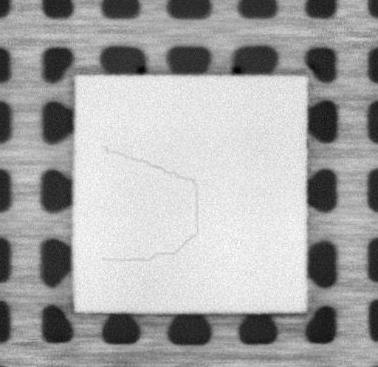DIE_CRACK: (98, 147, 200, 263)
